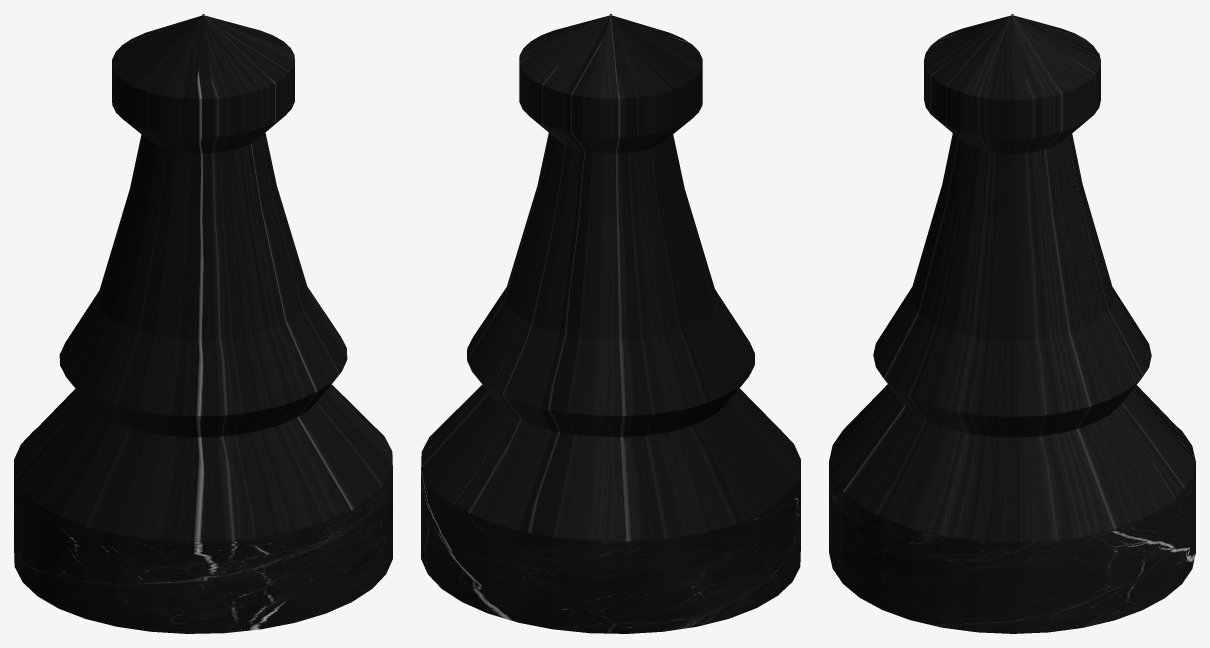
The model's file is turn1.obj.
3 renders of one model, left to right at view 1: azimuth 30°, elevation 25°; view 2: azimuth 150°, elevation 25°; view 3: azimuth 270°, elevation 25°, orthographic.
Parts seen in each view (by area): view 1: Cylinder; view 2: Cylinder; view 3: Cylinder.
Boxes of the visible parts, left/top/right/bottom form: Cylinder: left=14, top=14, right=392, bottom=633; Cylinder: left=421, top=14, right=800, bottom=633; Cylinder: left=829, top=14, right=1195, bottom=633.
Size of the model in its own units: 2 by 3.11 by 1.92.
1 material, 1 textured.
